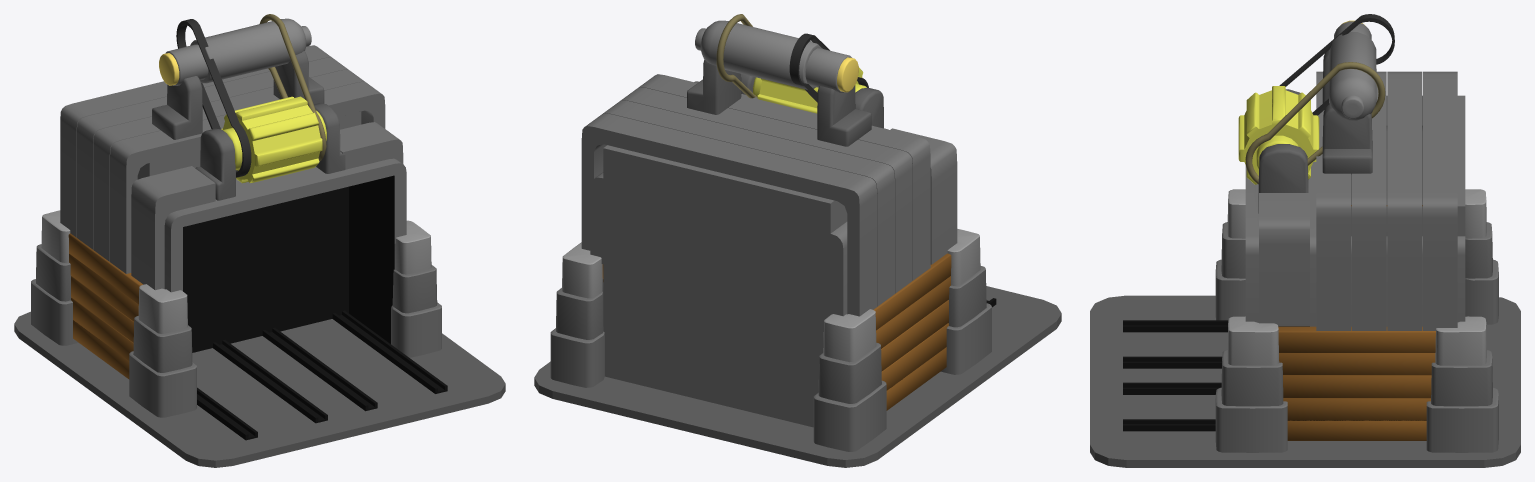
Rendered from Mine.fbx.
The picture shows the model from 3 angles, left to right: view 1: azimuth 30°, elevation 25°; view 2: azimuth 150°, elevation 25°; view 3: azimuth 270°, elevation 25°; orthographic projection. The views are drawn at different scales.
Parts seen in each view (by area): view 1: mine.003, Cylinder.080, Cylinder.079, Circle.001, Circle.003; view 2: mine.003, Cylinder.079, Cylinder.080, Circle.001, Circle.003; view 3: mine.003, Cylinder.080, Cylinder.079, Circle.003, Circle.001.
Boxes of the visible parts, bbox=[...] form: mine.003: bbox=[14, 45, 505, 467]; Cylinder.080: bbox=[221, 96, 326, 183]; Cylinder.079: bbox=[159, 18, 311, 85]; Circle.001: bbox=[176, 19, 251, 177]; Circle.003: bbox=[259, 14, 326, 161]; mine.003: bbox=[534, 59, 1061, 467]; Cylinder.079: bbox=[695, 20, 858, 92]; Cylinder.080: bbox=[753, 67, 866, 113]; Circle.001: bbox=[789, 33, 868, 102]; Circle.003: bbox=[716, 14, 757, 98]; mine.003: bbox=[1090, 50, 1520, 467]; Cylinder.080: bbox=[1238, 86, 1319, 184]; Cylinder.079: bbox=[1329, 20, 1376, 120]; Circle.003: bbox=[1245, 62, 1385, 184]; Circle.001: bbox=[1279, 14, 1394, 115].
Size of the model in its own units: 2957 by 2930 by 3271.
